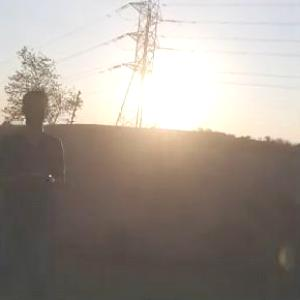follow: (0, 85, 74, 299)
